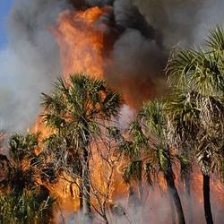fire: (31, 121, 76, 200), (56, 12, 105, 77)
smoke: (113, 4, 198, 89), (6, 7, 51, 110)
